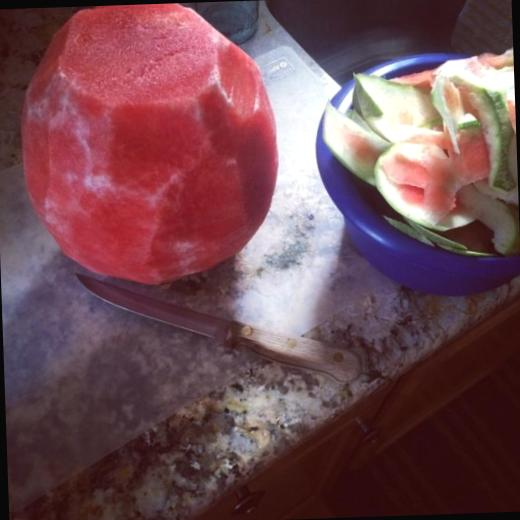Cherry: (15, 0, 283, 292)
